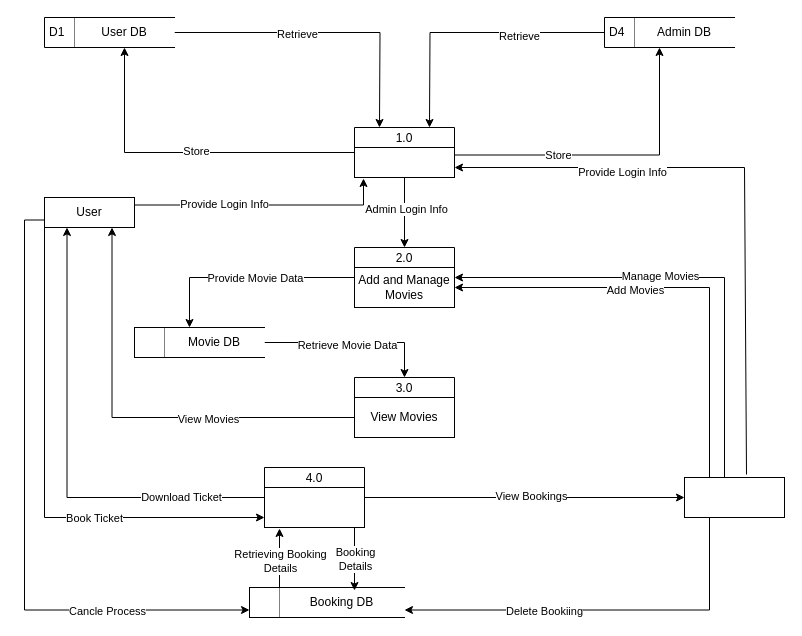
Some shapes in this 802 by 636 pixel diagram are drawn without their labels. The shapes that lost their labels are listed below. From the top down, each one's centre as x and y in pixels, then its label:
At (404,162): "Sign in and Log in Process".
At (149,342): "D2".
At (314,507): "Booking Process".
At (734,497): "Admin".
At (264,602): "D3".
